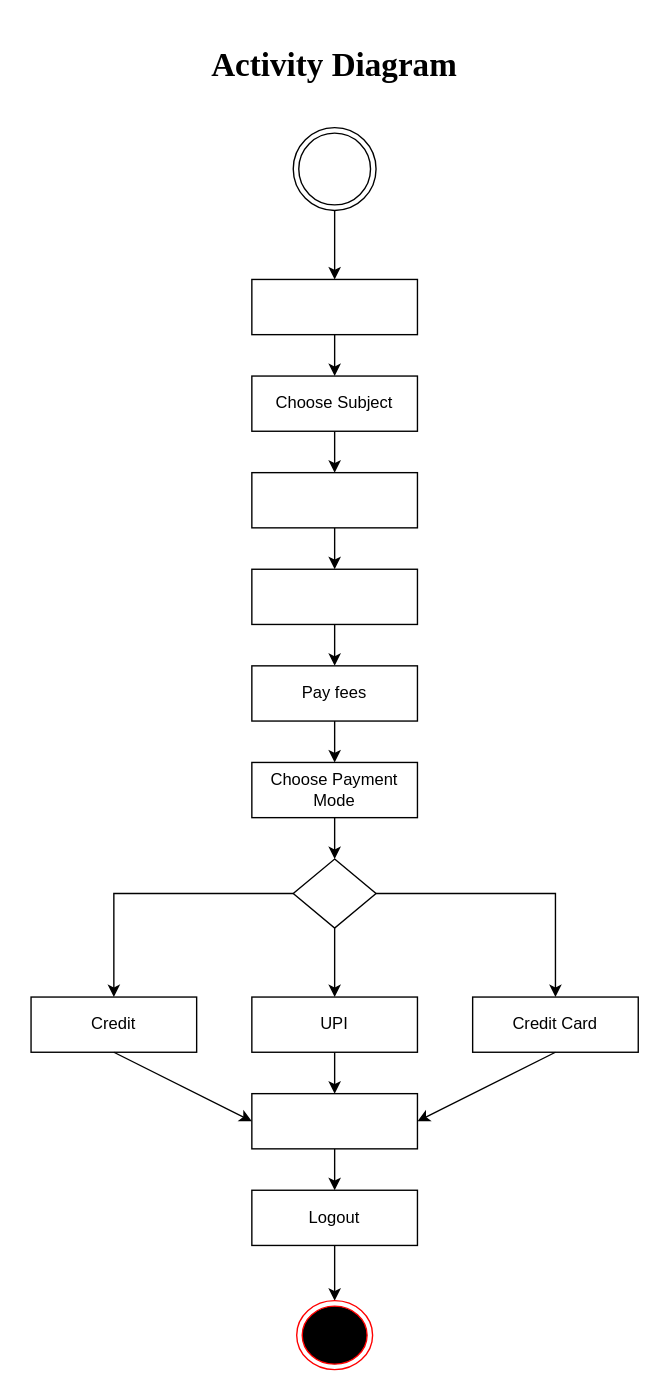
Image size: 668x1394. Some labels were removed from this diagram. The centre of each missing label's shape, as x and y in pixels:
"Choose Exam" goes at (333,499).
"Login" goes at (333,306).
"Make Payment" goes at (333,1120).
"Register" goes at (333,596).
